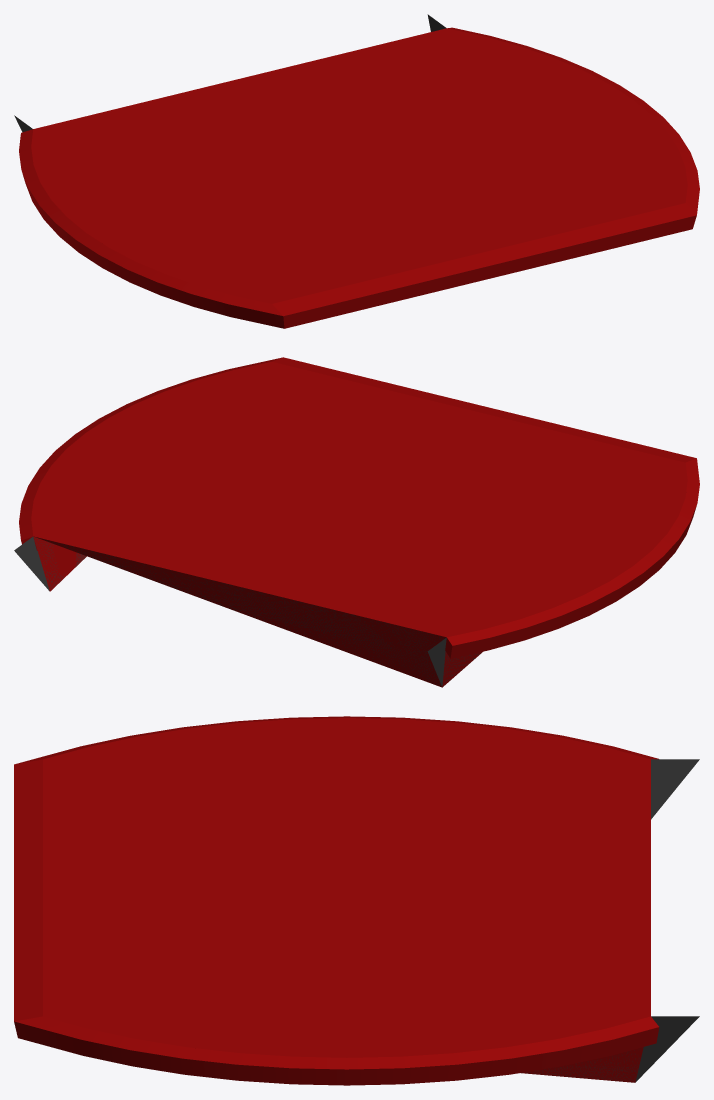
3 views of the same model, one above another, from view 1: azimuth 30°, elevation 25°; view 2: azimuth 150°, elevation 25°; view 3: azimuth 270°, elevation 25° (orthographic). The views are drawn at different scales.
Size of the model in its own units: 1.52 by 0.1466 by 1.25.
